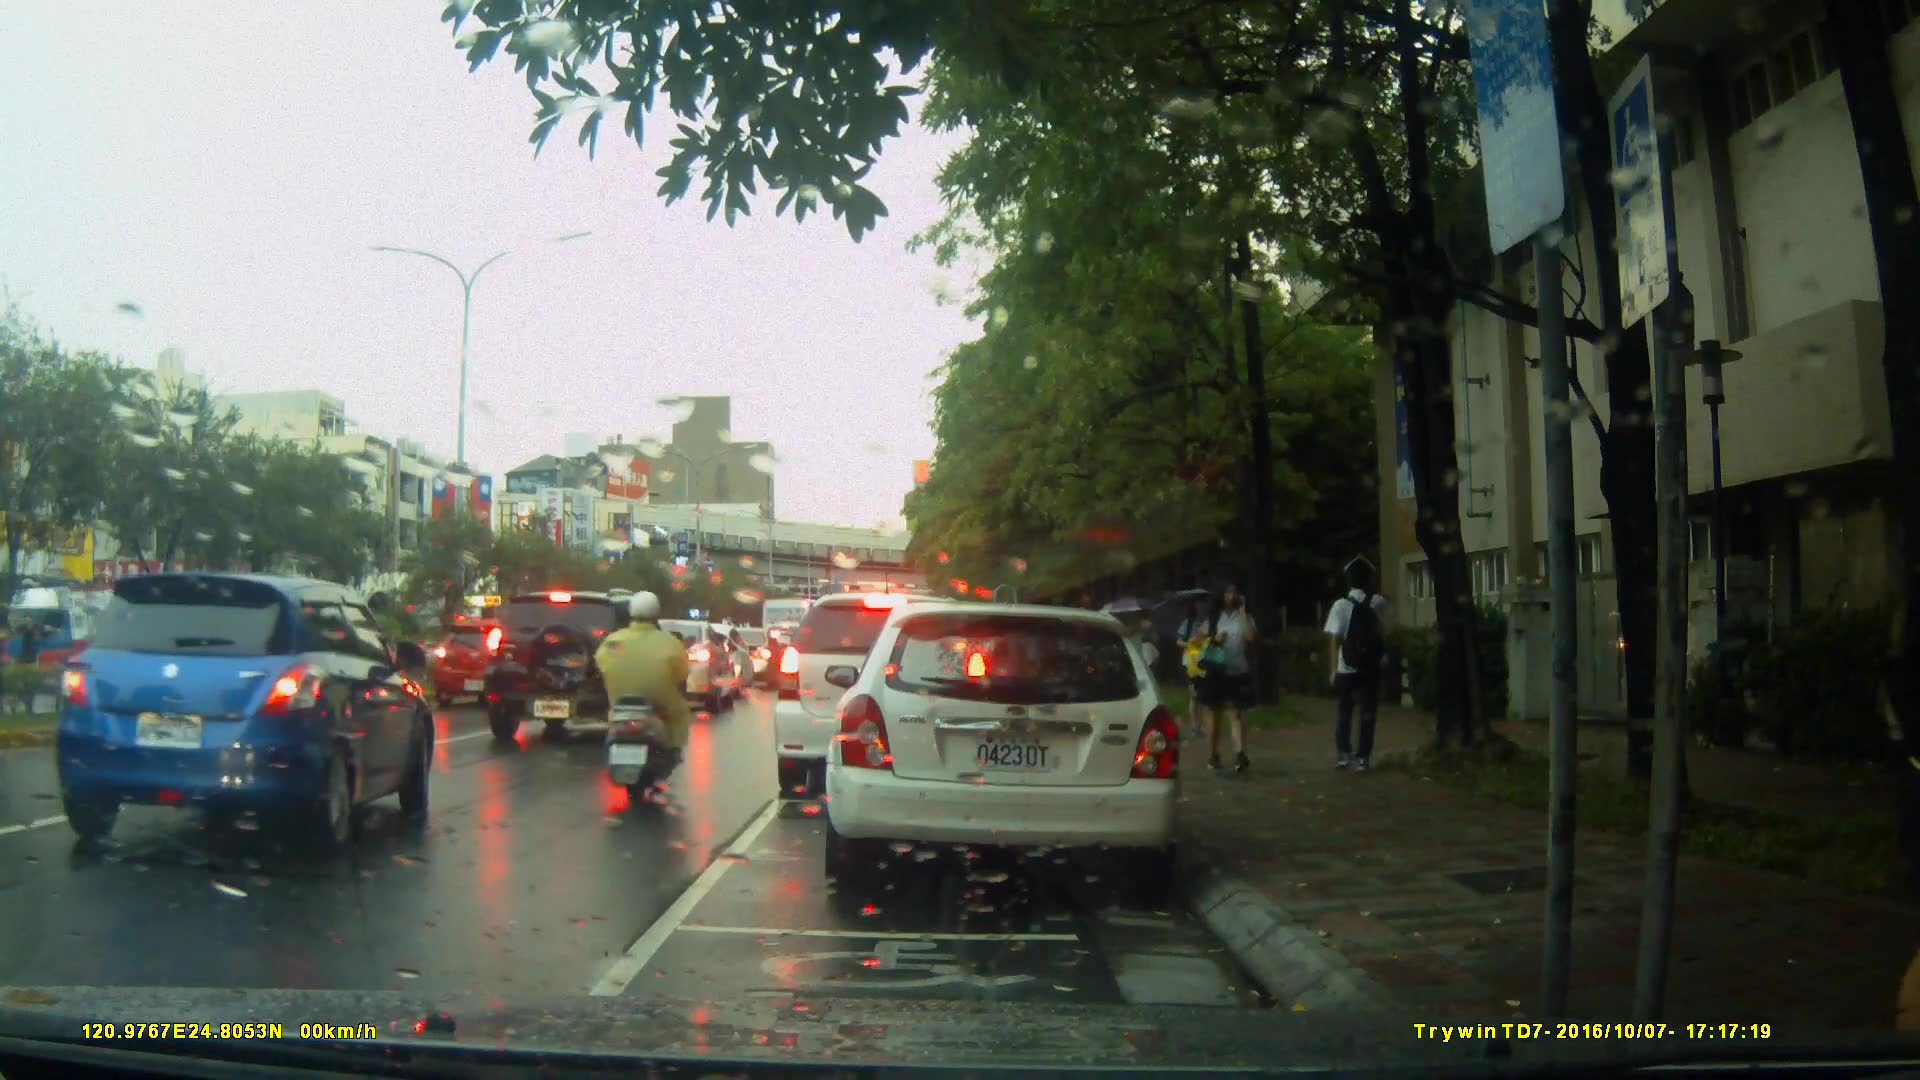pedestrian: (1304, 550, 1400, 781), (1193, 559, 1263, 778), (1172, 588, 1216, 743)
rider: (596, 592, 699, 807)
vehicle: (815, 593, 1203, 906), (53, 573, 435, 861), (771, 590, 995, 802), (483, 589, 686, 745), (1, 584, 150, 686), (423, 615, 562, 708)
